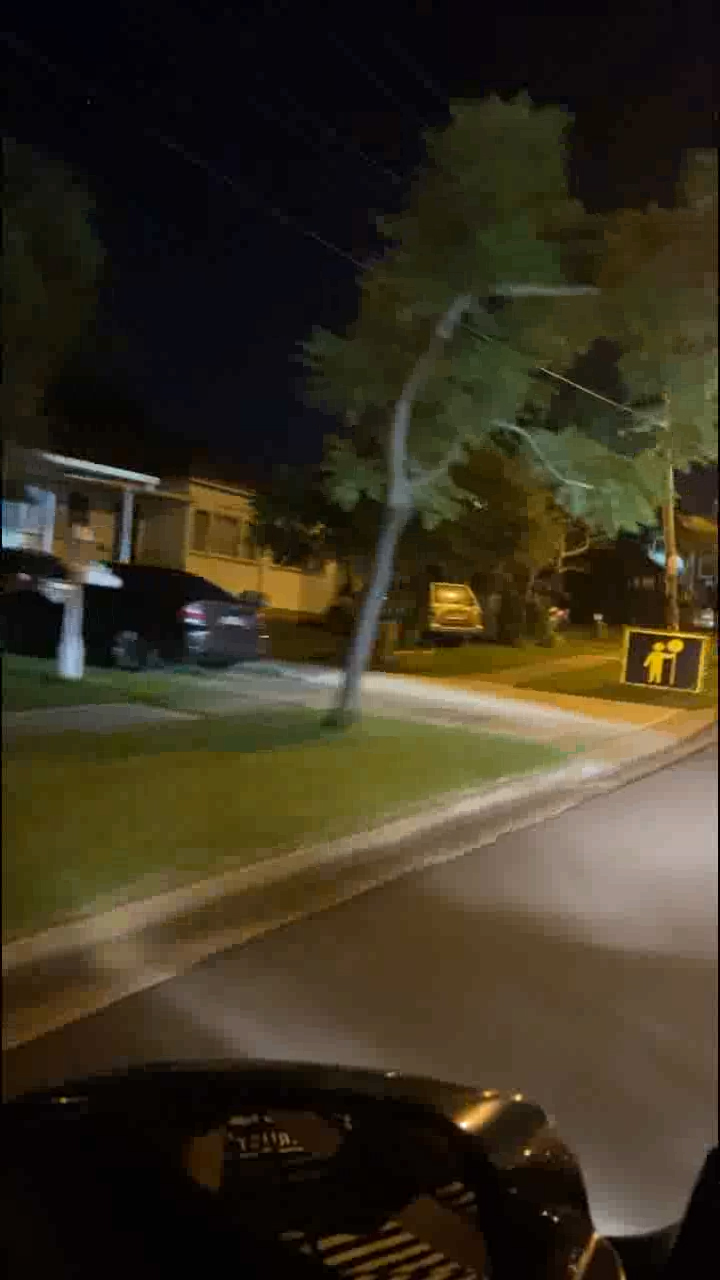prepare to stop board: (618, 628, 707, 693)
